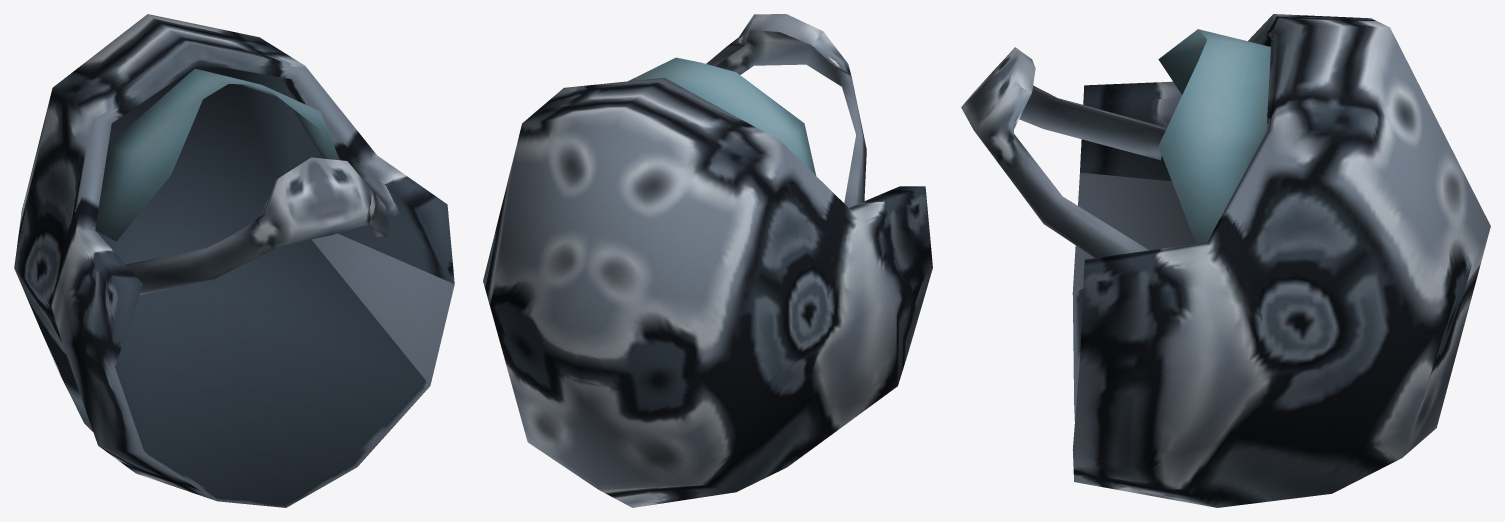
Rendered from helmetLOD3.FBX.
3 renders of one model, left to right at view 1: azimuth 30°, elevation 25°; view 2: azimuth 150°, elevation 25°; view 3: azimuth 270°, elevation 25°, orthographic. The views are drawn at different scales.
Parts seen in each view (by area): view 1: helmet; view 2: helmet; view 3: helmet.
Part boxes in pixels (box(x1,y1,x2,y2)): helmet: box(14, 14, 454, 507); helmet: box(483, 14, 932, 507); helmet: box(961, 14, 1490, 507).
Size of the model in its own units: 29.66 by 33.8 by 33.01.
